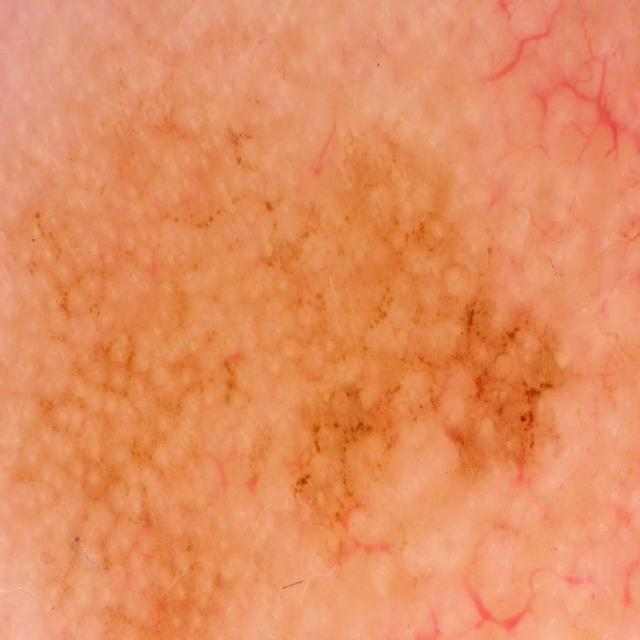Melanoma: (0, 80, 611, 640)
